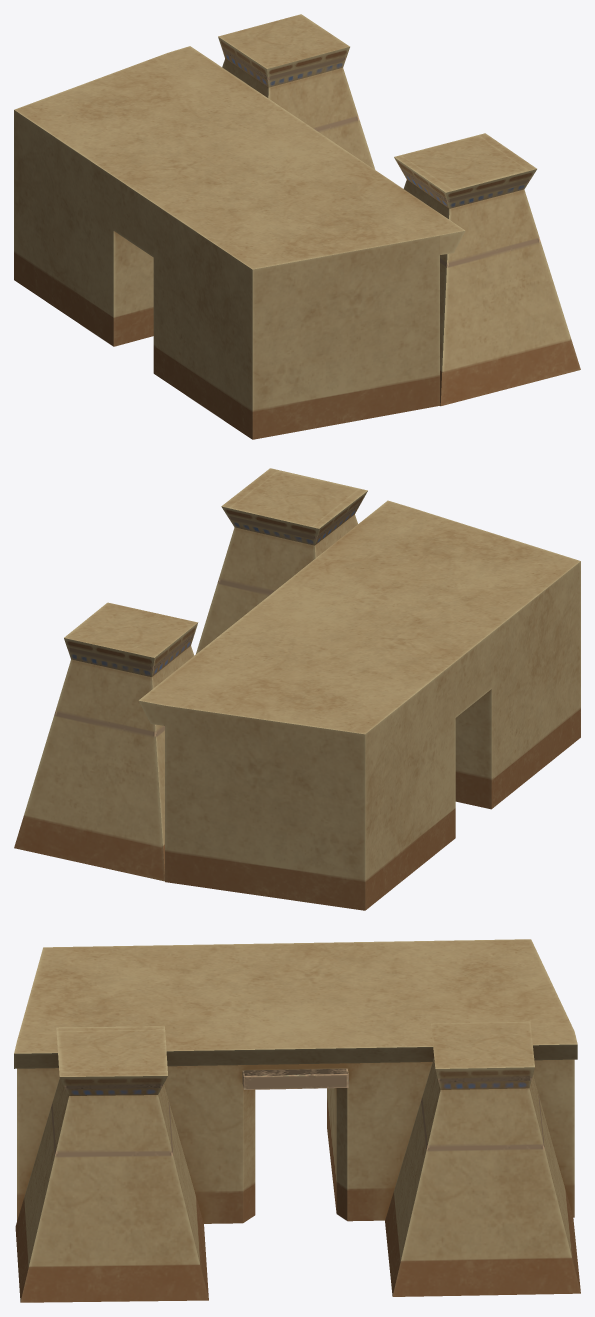
Rendered from mazeEntrance.glb.
3 views of the same model, one above another, from view 1: azimuth 30°, elevation 25°; view 2: azimuth 150°, elevation 25°; view 3: azimuth 270°, elevation 25° (orthographic). The views are drawn at different scales.
Parts seen in each view (by area): view 1: mesh_Entrance; view 2: mesh_Entrance; view 3: mesh_Entrance.
Part boxes in pixels (x1,y1,x2,y2): mesh_Entrance: (14,14,580,439); mesh_Entrance: (14,468,580,910); mesh_Entrance: (14,939,580,1302).
Size of what is drawn, in the model's own units: 19.77 by 11.01 by 26.68.
Materials: 1 (1 with a texture image).
